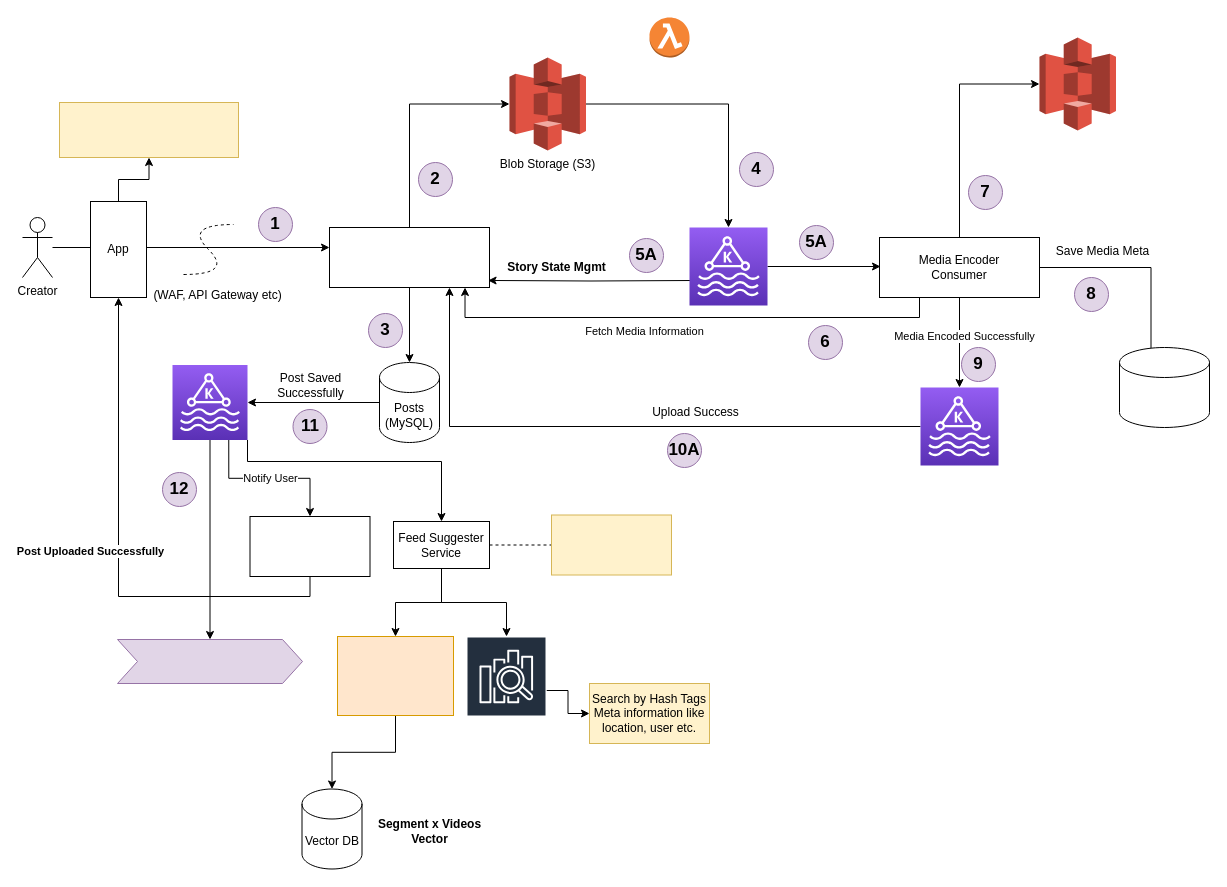
Image size: 1227x887. Some labels were removed from this diagram. The centre of each missing label's shape, as x and y in pixels:
Analyse Post (Hashtag, Meta Information etc): (611,544)
Elasticsearch: (506,690)
Encoded Media Blob Storage: (1077,83)
EncodedMedia (MySQL): (1164,387)
FAN OUT OF POSTS: (209,661)
Lambda Function to Trigger Processing: (669,37)
Mobile App (For Thumbnail and Collecting Information about Post): (148,130)
Notification Service: (309,546)
Recommendation Service: (395,676)
Story Service (With Media Content): (409,257)
